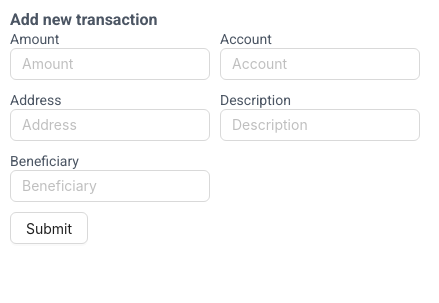
Form Component › shows error when description contains invalid characters
Type "Invalid@Description!" into the field labelled "Description" at {"x": 320, "y": 125}, box [220,109,420,141]
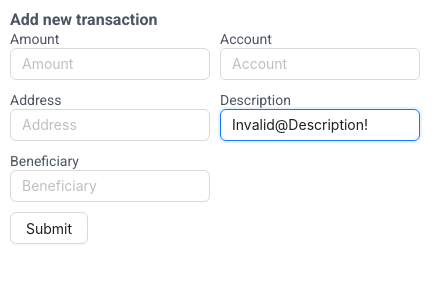
Click the button "Submit" at {"x": 49, "y": 228}, box [10,212,88,244]
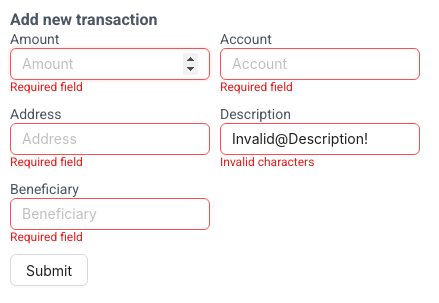
Expected: the text "Invalid characters" is shown, [220,155,314,169]
